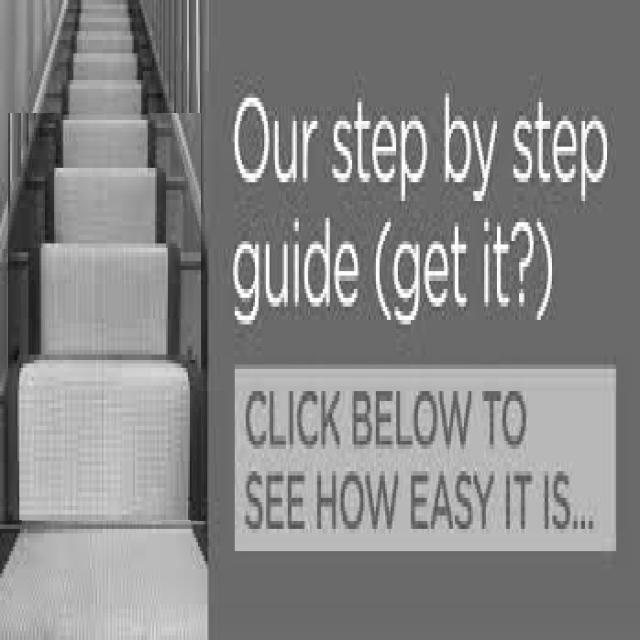stair: (9, 114, 201, 520), (7, 129, 204, 353)
